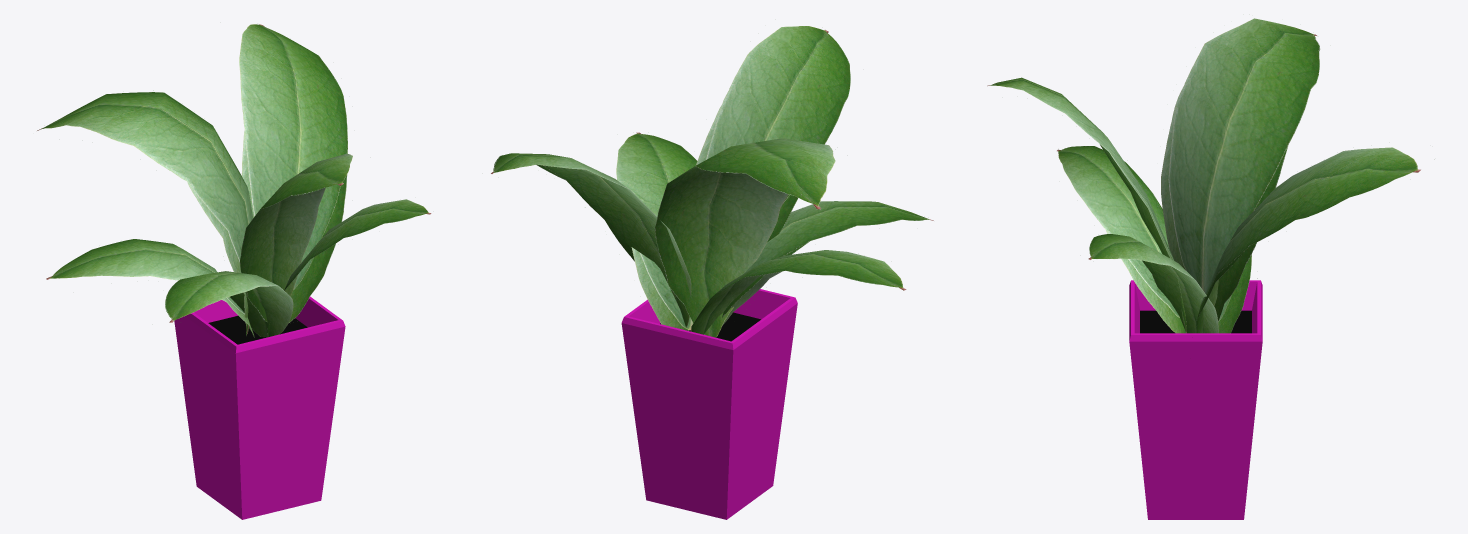
Rendered from plant5.FBX.
3 renders of one model, left to right at view 1: azimuth 30°, elevation 25°; view 2: azimuth 150°, elevation 25°; view 3: azimuth 270°, elevation 25°, orthographic. The views are drawn at different scales.
Visible parts, largest first — view 1: Box019, Box023; view 2: Box019, Box023; view 3: Box019, Box023.
Boxes of the visible parts, bbox=[...] form: Box019: bbox=[37, 24, 431, 337]; Box023: bbox=[174, 296, 345, 519]; Box019: bbox=[491, 26, 933, 337]; Box023: bbox=[621, 289, 797, 519]; Box019: bbox=[987, 18, 1434, 333]; Box023: bbox=[1129, 280, 1262, 519].
Bounding box in the file's own units: 42.76 × 44.41 × 45.45.
Materials: 3 (1 with a texture image).
